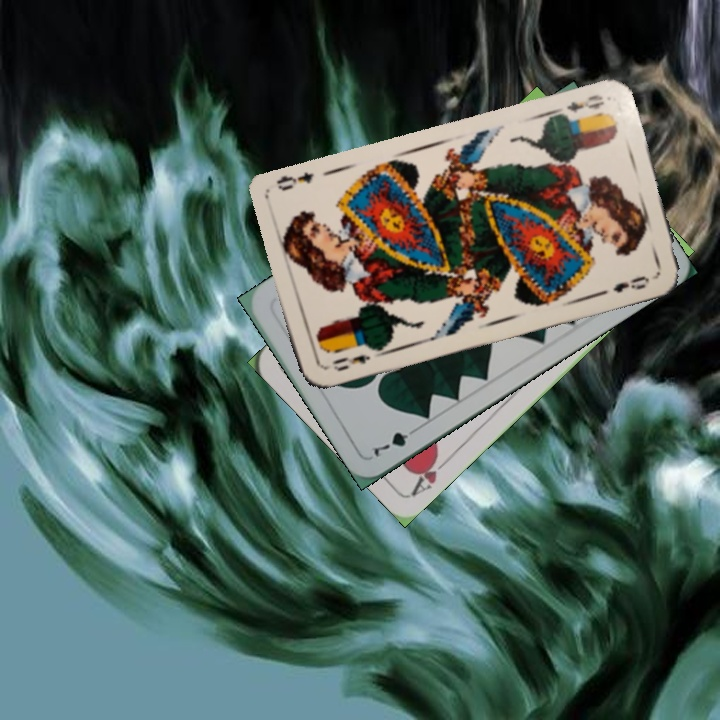EO: (562, 90, 607, 115), (328, 350, 373, 374)
G7: (367, 423, 422, 460)
HA: (407, 447, 455, 499)
